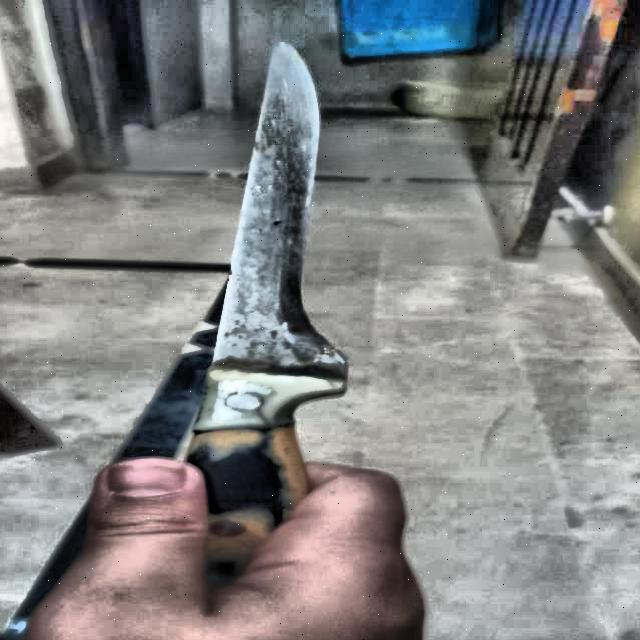knife: (185, 38, 347, 591)
